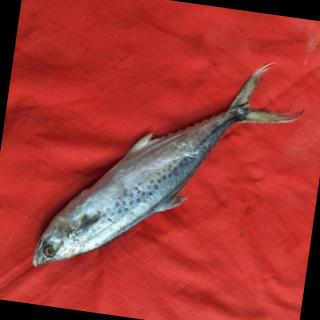Ikan: (27, 28, 298, 303)
